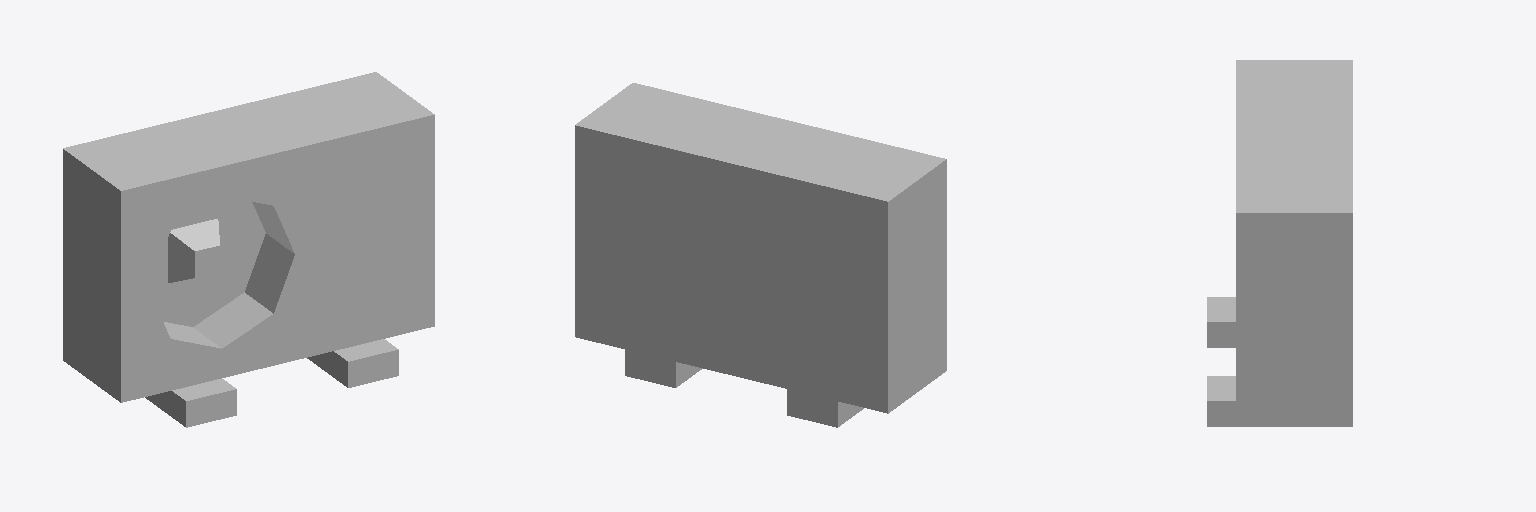
Rendered from detail-ac-b.obj.
3 renders of one model, left to right at view 1: azimuth 30°, elevation 25°; view 2: azimuth 150°, elevation 25°; view 3: azimuth 270°, elevation 25°, orthographic.
Parts seen in each view (by area): view 1: detail-ac-b; view 2: detail-ac-b; view 3: detail-ac-b.
Boxes of the visible parts, <box> form: detail-ac-b: <box>63,72,434,427</box>; detail-ac-b: <box>575,83,946,427</box>; detail-ac-b: <box>1207,60,1352,426</box>.
Size of the model in its own units: 0.31 by 0.225 by 0.125.